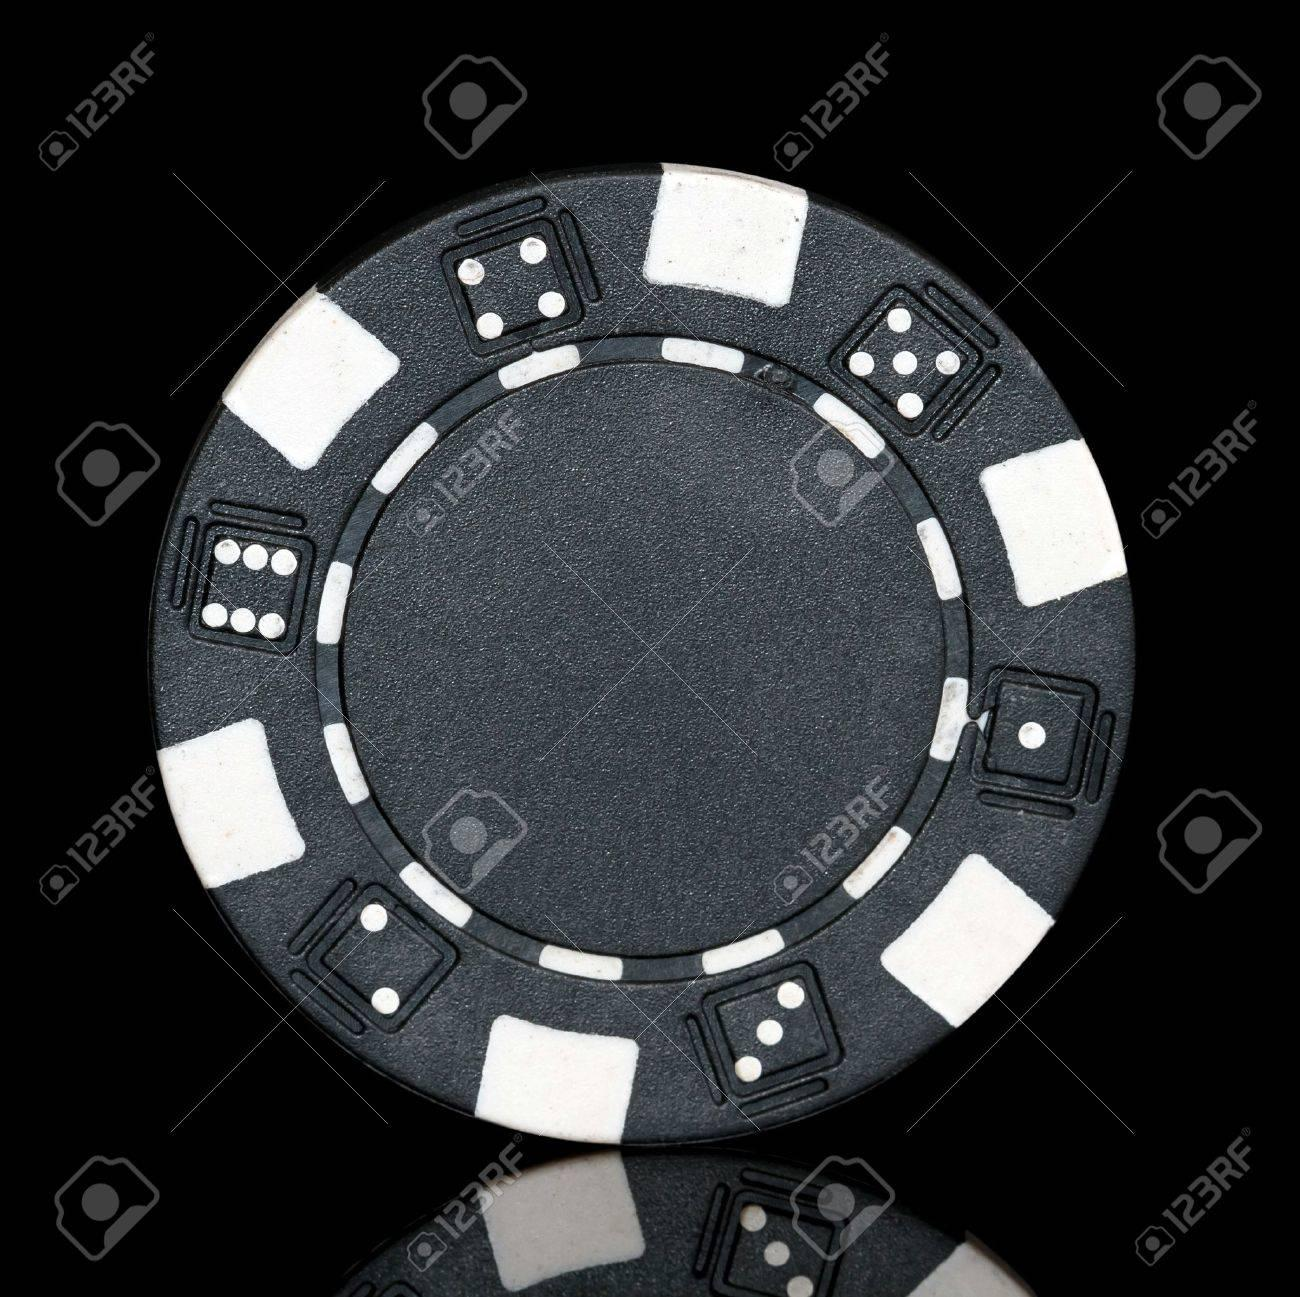chip-black: (152, 165, 1135, 1145)
